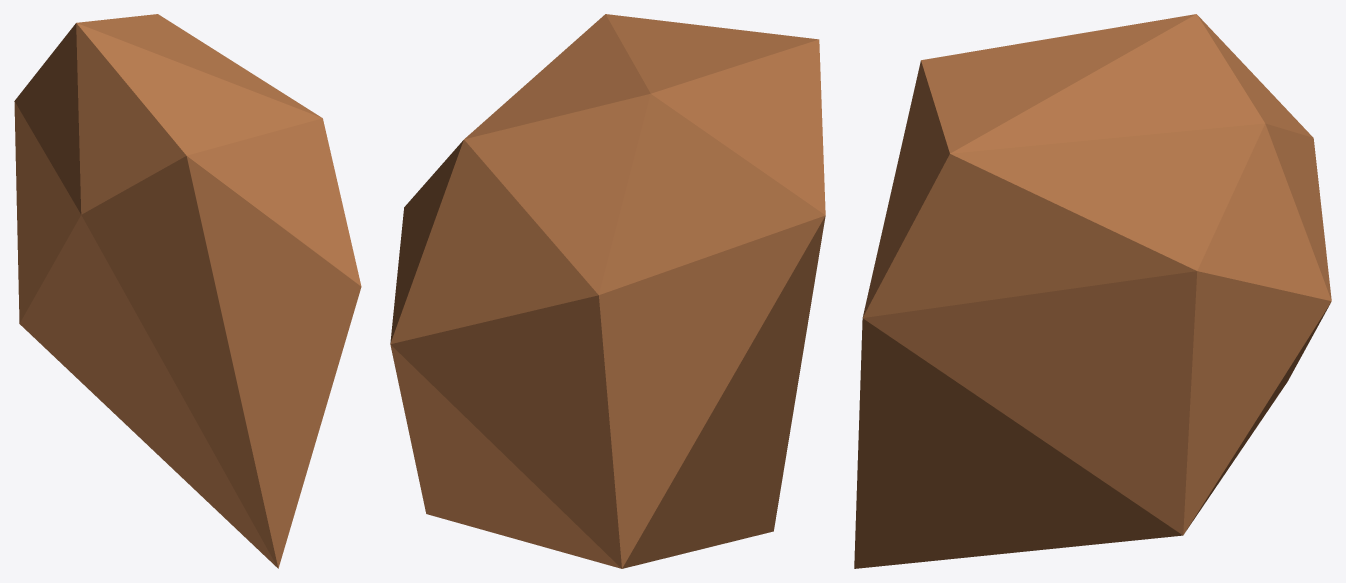
The model's file is Willow_Autumn_3.lod4.glb.
3 views of the same model, side by side, from view 1: azimuth 30°, elevation 25°; view 2: azimuth 150°, elevation 25°; view 3: azimuth 270°, elevation 25° (orthographic). The views are drawn at different scales.
Visible parts, largest first — view 1: Willow_Autumn_3; view 2: Willow_Autumn_3; view 3: Willow_Autumn_3.
Part boxes in pixels (bbox=[...]): Willow_Autumn_3: bbox=[14, 14, 361, 568]; Willow_Autumn_3: bbox=[390, 14, 825, 568]; Willow_Autumn_3: bbox=[854, 14, 1331, 568].
Bounding box in the file's own units: 1.4 × 2.42 × 2.
